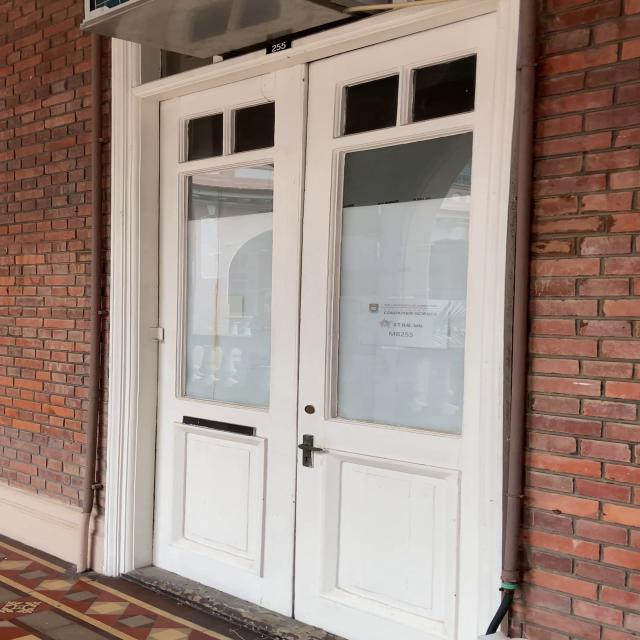room255: (264, 42, 296, 53)
